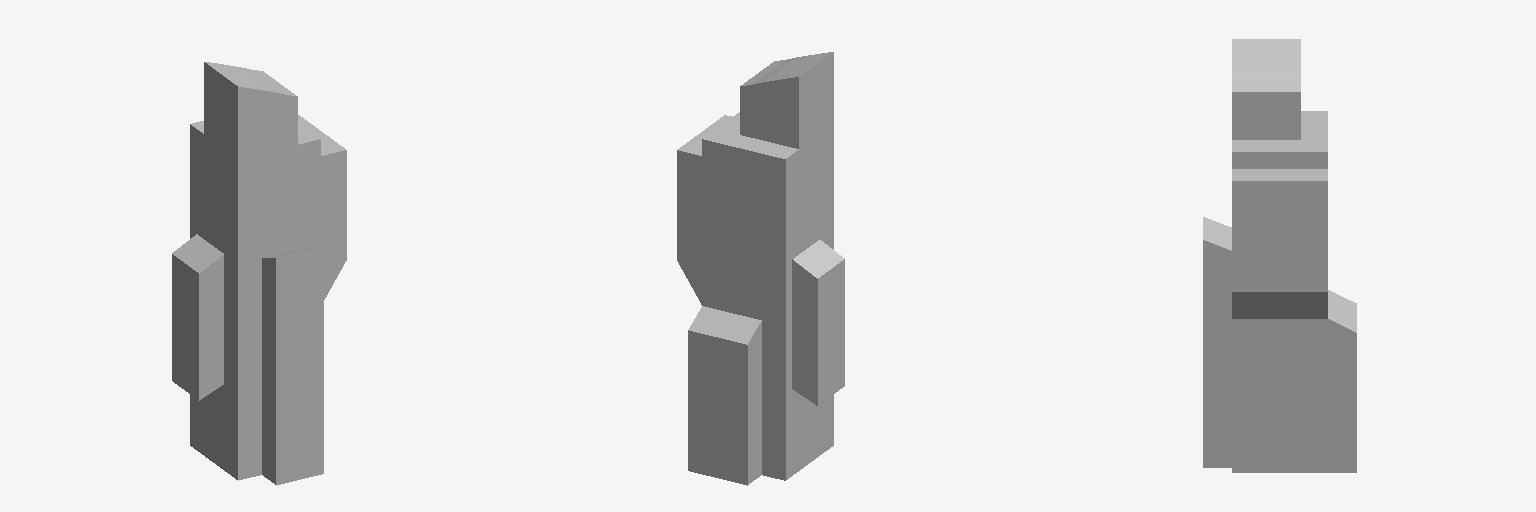
File: Building_3.obj
The picture shows the model from 3 angles: view 1: azimuth 30°, elevation 25°; view 2: azimuth 150°, elevation 25°; view 3: azimuth 270°, elevation 25°; orthographic projection.
Visible parts, largest first — view 1: building_3; view 2: building_3; view 3: building_3.
Part boxes in pixels (bbox=[...]): building_3: bbox=[172, 62, 346, 485]; building_3: bbox=[677, 52, 844, 485]; building_3: bbox=[1203, 39, 1356, 472].
Bounding box in the file's own units: 8.82 × 24.82 × 8.76.